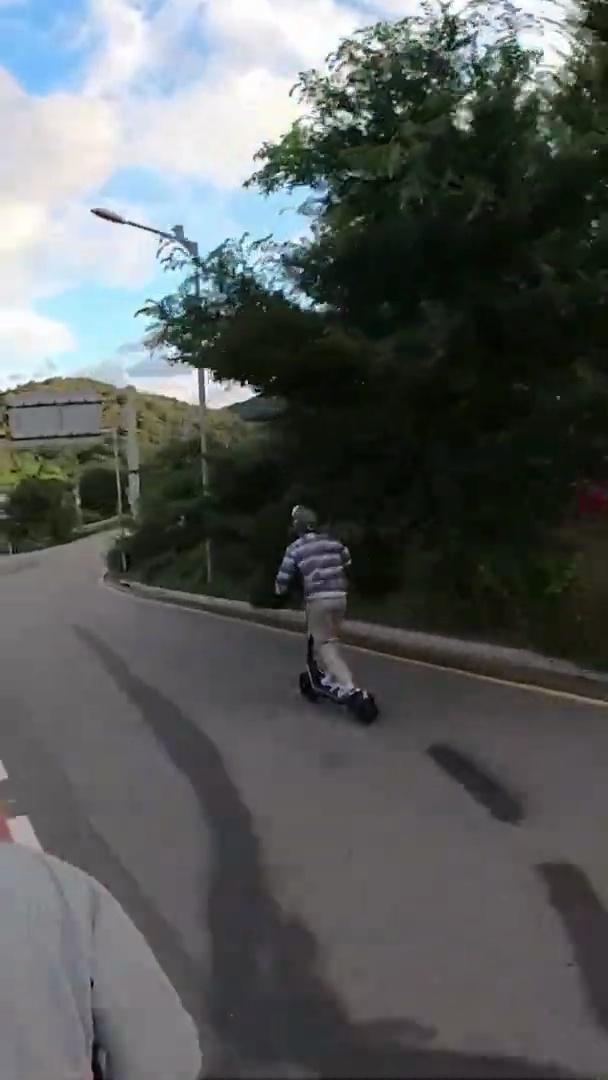helmet: (263, 501, 385, 726)
